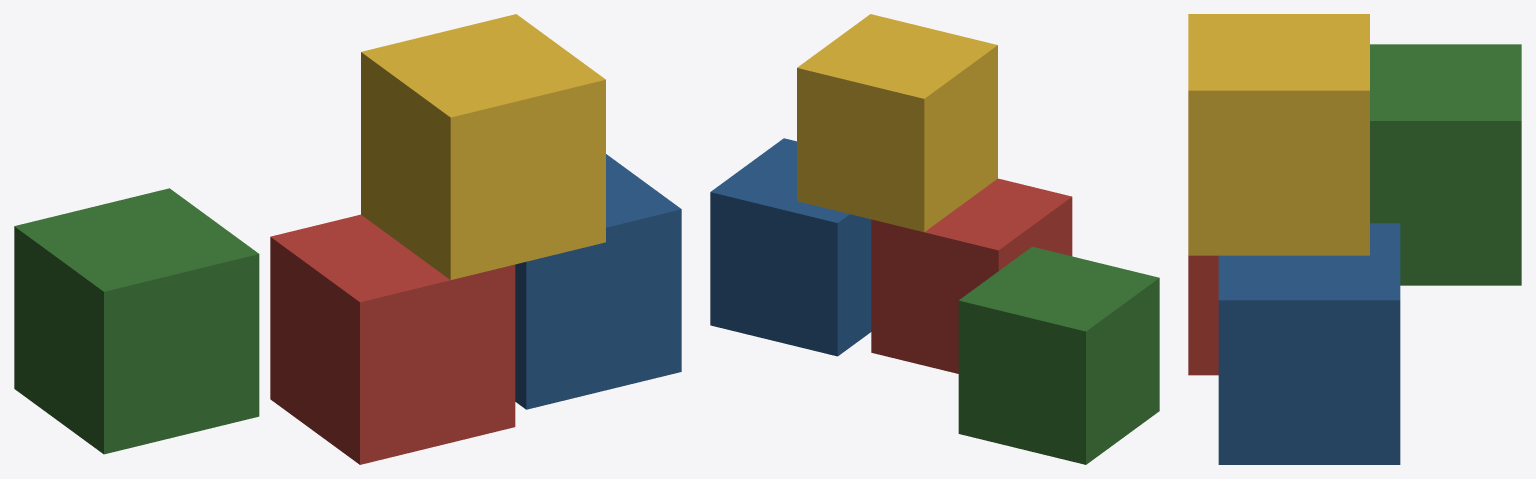
Rendered from GD_ToyBlocks_01.glb.
The picture shows the model from 3 angles, left to right: view 1: azimuth 30°, elevation 25°; view 2: azimuth 150°, elevation 25°; view 3: azimuth 270°, elevation 25°; orthographic projection. The views are drawn at different scales.
Visible parts, largest first — view 1: GD_ToyBlocks_01; view 2: GD_ToyBlocks_01; view 3: GD_ToyBlocks_01.
Boxes of the visible parts, x1=… form: GD_ToyBlocks_01: x1=14, y1=14, x2=681, y2=464; GD_ToyBlocks_01: x1=710, y1=14, x2=1159, y2=464; GD_ToyBlocks_01: x1=1188, y1=14, x2=1521, y2=464.
Bounding box in the file's own units: 0.2 × 0.12 × 0.11.
1 material, 1 textured.
